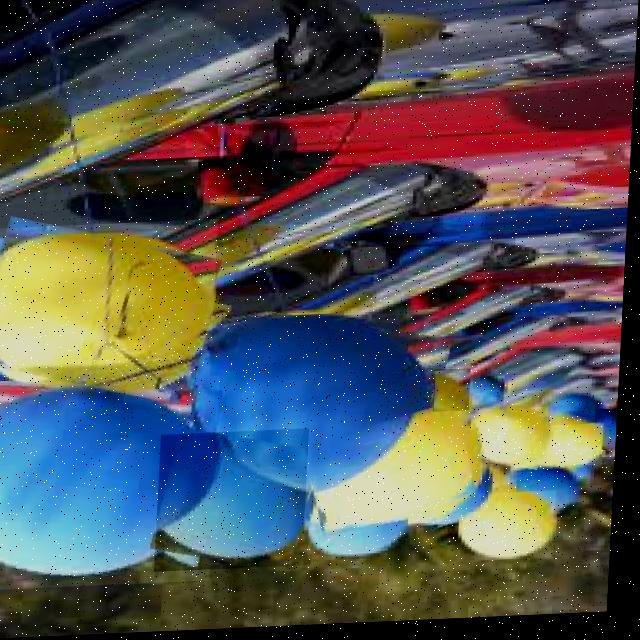balloon: (186, 307, 451, 492), (0, 377, 223, 590), (0, 220, 220, 401), (159, 430, 322, 573), (309, 413, 479, 532), (462, 495, 561, 566), (313, 505, 415, 561), (471, 411, 552, 474), (541, 394, 619, 439), (541, 428, 608, 473), (520, 473, 577, 524), (439, 499, 494, 530), (436, 371, 474, 415), (598, 414, 622, 455)
